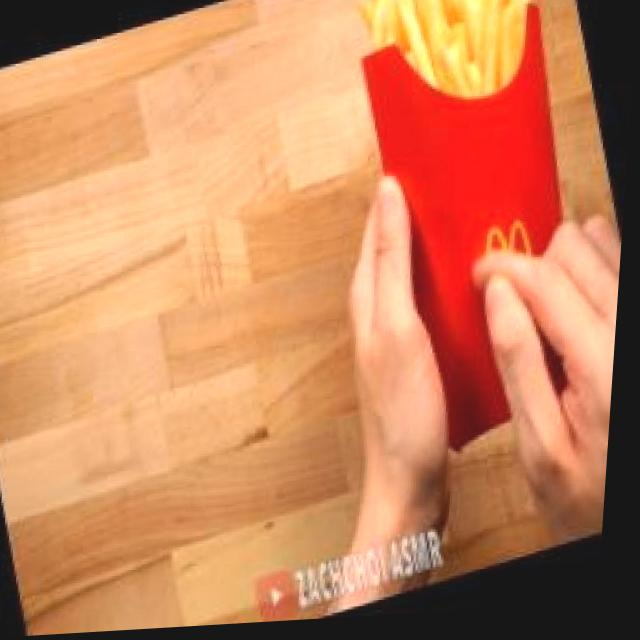french fries: (328, 0, 565, 149)
